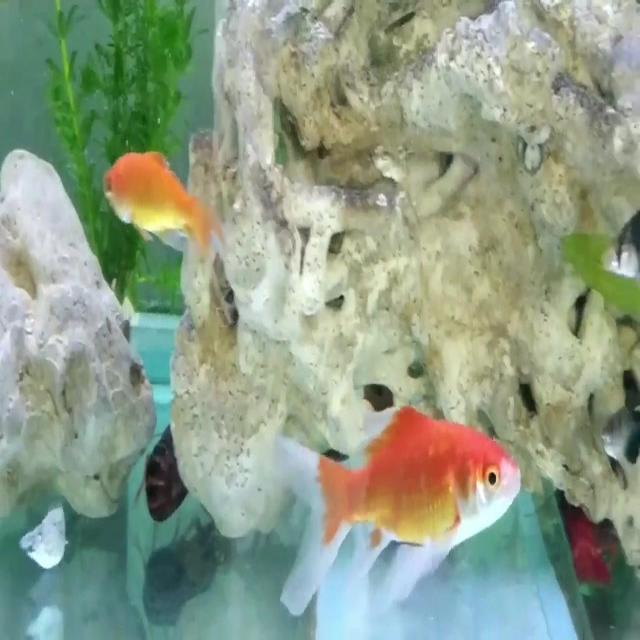GoldFish: (263, 403, 541, 630), (98, 142, 239, 272)
